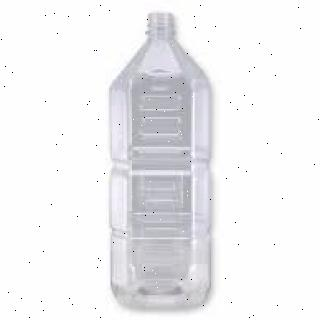Plastic-bottle: (107, 11, 217, 314)
